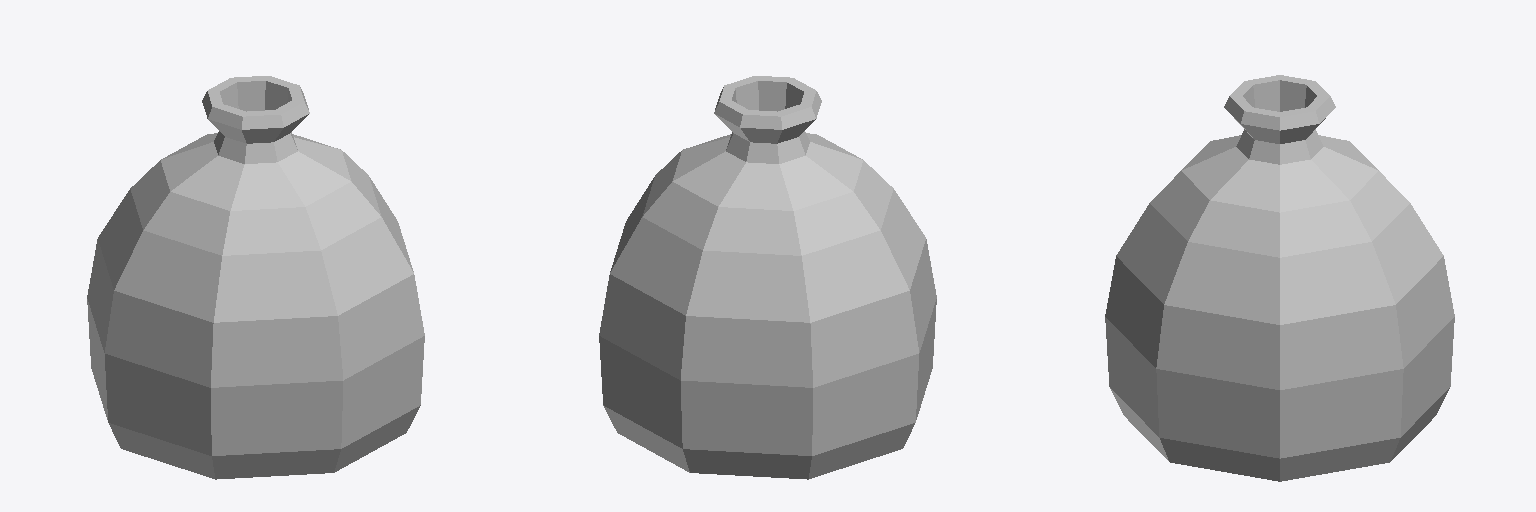
Rendered from pot_water.obj.
3 renders of one model, left to right at view 1: azimuth 30°, elevation 25°; view 2: azimuth 150°, elevation 25°; view 3: azimuth 270°, elevation 25°, orthographic.
Visible parts, largest first — view 1: pot_water; view 2: pot_water; view 3: pot_water.
Boxes of the visible parts, x1,y1,x2,y2 form: pot_water: [87, 76, 424, 479]; pot_water: [599, 76, 936, 479]; pot_water: [1105, 75, 1454, 481].
Size of the model in its own units: 99.28 by 100 by 99.28.